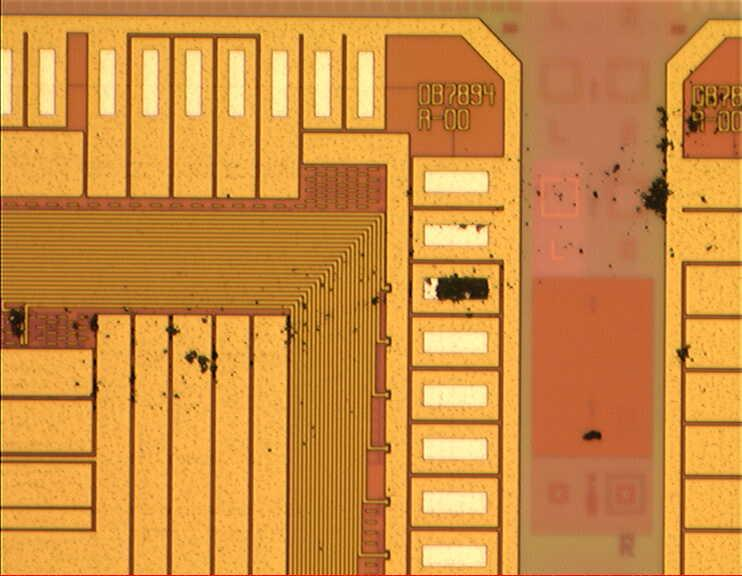PO CONTAMINATION: (2, 68, 742, 563)
